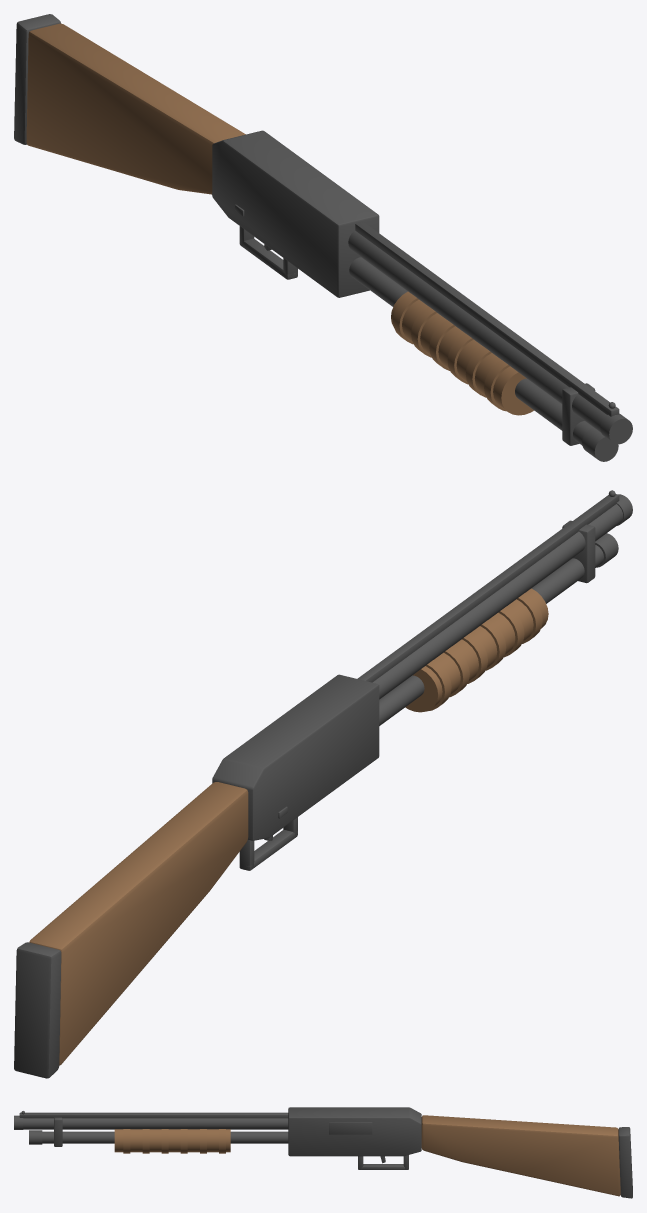
The model's file is Shotgun.glb.
3 views of the same model, one above another, from view 1: azimuth 30°, elevation 25°; view 2: azimuth 150°, elevation 25°; view 3: azimuth 270°, elevation 25° (orthographic). The views are drawn at different scales.
Parts seen in each view (by area): view 1: Stock, Receiver, Barrel, Rib, Pump, MagTube, RecoilPad, BarrelBand, MagCap, Muzzle, GuardBottom; view 2: Stock, Receiver, RecoilPad, Barrel, Rib, Pump, MagTube, BarrelBand; view 3: Stock, Receiver, Barrel, Pump, Rib, MagTube, RecoilPad, EjectionPort, BarrelBand, GuardBottom, MagCap, PumpRib0 (+5 smaller).
Part boxes in pixels (left/top/right/bottom): Stock: left=26, top=23, right=245, bottom=194; Receiver: left=212, top=130, right=379, bottom=297; Barrel: left=348, top=230, right=606, bottom=432; Rib: left=355, top=222, right=619, bottom=416; Pump: left=391, top=291, right=533, bottom=415; MagTube: left=349, top=257, right=593, bottom=445; RecoilPad: left=14, top=14, right=60, bottom=144; BarrelBand: left=562, top=383, right=595, bottom=445; MagCap: left=582, top=427, right=618, bottom=461; Muzzle: left=600, top=413, right=632, bottom=444; GuardBottom: left=239, top=238, right=297, bottom=279; Stock: left=29, top=782, right=248, bottom=1065; Receiver: left=212, top=674, right=379, bottom=840; RecoilPad: left=14, top=942, right=61, bottom=1078; Barrel: left=372, top=504, right=622, bottom=699; Rib: left=357, top=494, right=619, bottom=682; Pump: left=405, top=588, right=548, bottom=712; MagTube: left=379, top=545, right=603, bottom=725; BarrelBand: left=562, top=520, right=595, bottom=583; Stock: left=421, top=1115, right=620, bottom=1196; Receiver: left=288, top=1107, right=421, bottom=1156; Barrel: left=23, top=1118, right=288, bottom=1129; Pump: left=114, top=1129, right=230, bottom=1152; Rib: left=19, top=1112, right=288, bottom=1118; MagTube: left=42, top=1131, right=288, bottom=1143; RecoilPad: left=618, top=1127, right=632, bottom=1198; EjectionPort: left=329, top=1122, right=372, bottom=1134; BarrelBand: left=54, top=1117, right=62, bottom=1146; GuardBottom: left=358, top=1164, right=407, bottom=1169; MagCap: left=29, top=1130, right=42, bottom=1144; PumpRib0: left=123, top=1129, right=130, bottom=1153.
Bounding box in the file's own units: 0.0546 × 0.1593 × 1.07.
